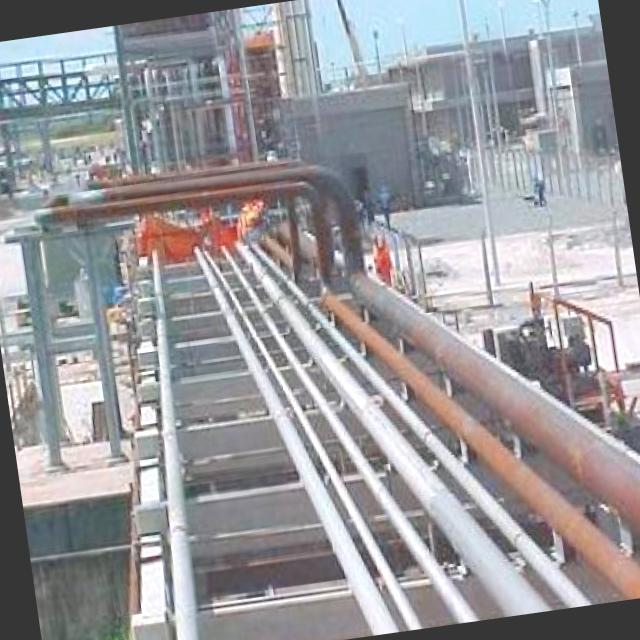gas: (263, 232, 640, 599), (254, 244, 593, 608), (239, 238, 552, 616), (223, 252, 480, 623), (207, 250, 427, 630), (193, 246, 398, 635), (353, 267, 640, 523), (40, 182, 340, 283), (109, 167, 366, 271), (151, 242, 199, 640)
